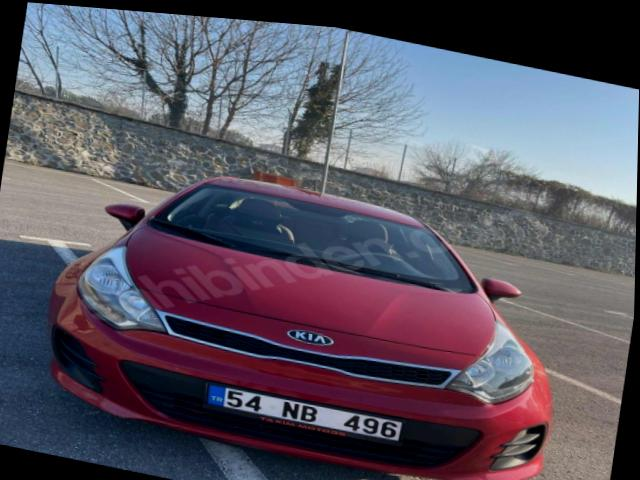plaka: (206, 385, 402, 441)
